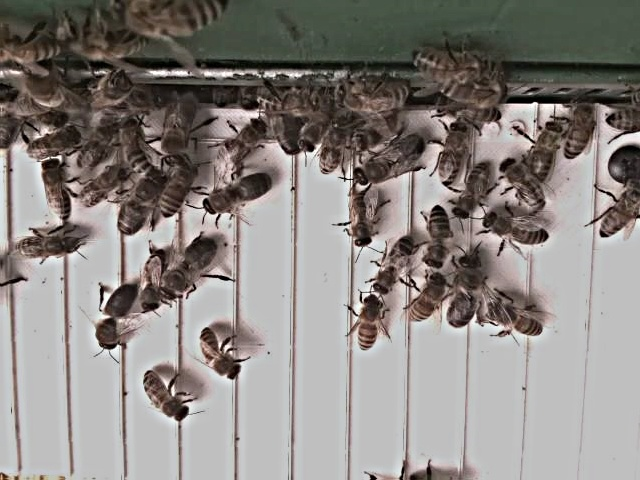Drone: (350, 133, 425, 189), (158, 237, 219, 305), (114, 170, 165, 240), (159, 85, 201, 168), (94, 283, 140, 356), (199, 173, 274, 217), (445, 254, 482, 333)
Worker: (137, 369, 189, 423), (373, 234, 415, 300), (212, 120, 268, 168), (74, 165, 130, 212), (480, 211, 550, 248), (598, 183, 640, 241), (450, 164, 491, 221), (434, 123, 468, 191), (498, 160, 542, 212), (197, 326, 238, 381), (38, 160, 71, 224), (408, 275, 446, 328), (137, 248, 166, 317), (485, 302, 542, 337), (528, 121, 560, 183), (422, 206, 452, 272), (562, 105, 596, 163), (25, 128, 81, 163), (15, 233, 82, 261), (318, 121, 349, 179), (346, 191, 374, 250), (355, 296, 382, 354)
